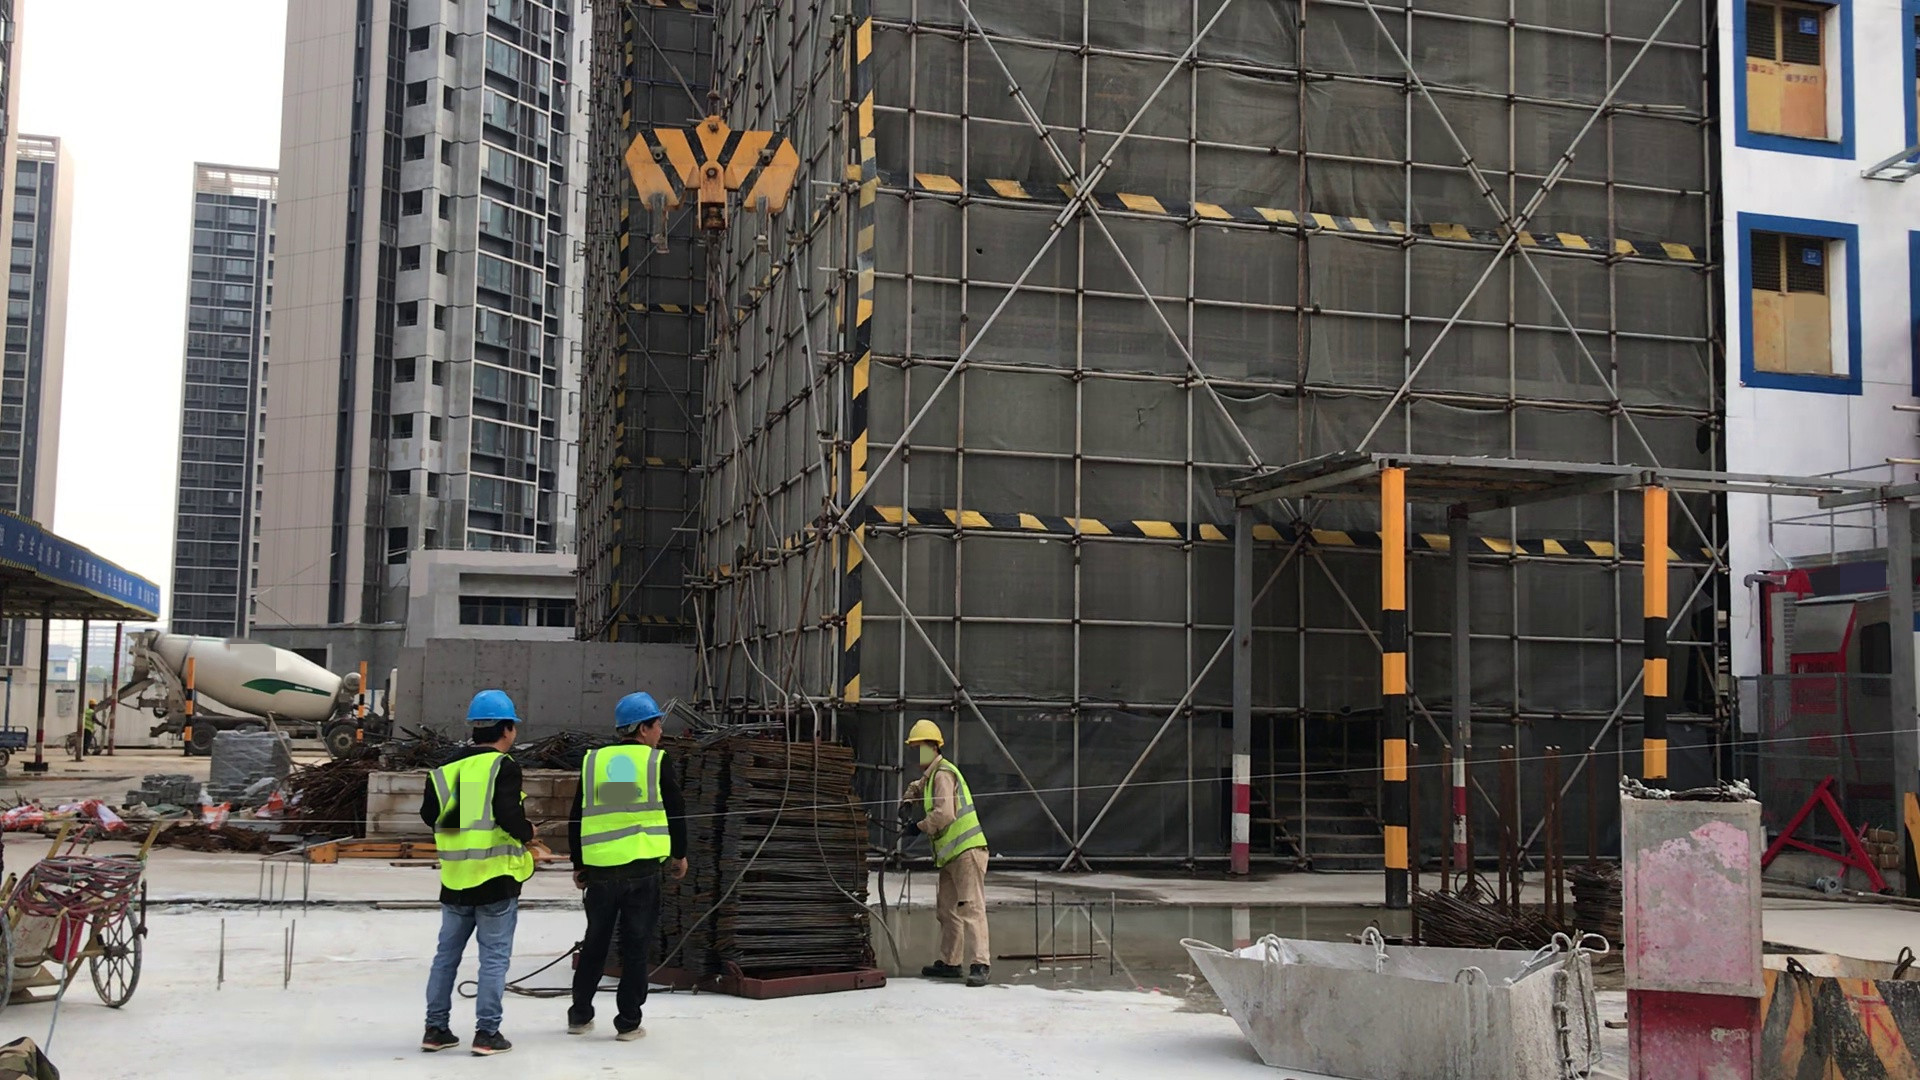handcart: (6, 812, 156, 1015)
helmet: (611, 695, 667, 728), (462, 693, 523, 723), (905, 723, 947, 747), (85, 697, 98, 708)
hook: (619, 101, 799, 282)
hopper: (1182, 923, 1610, 1080), (1759, 950, 1920, 1078)
person: (562, 691, 689, 1045), (415, 686, 526, 1064), (896, 719, 1001, 994), (84, 697, 106, 757)
slogan: (1, 516, 160, 621)
vest: (429, 751, 538, 896), (581, 745, 671, 869), (919, 765, 994, 863), (86, 709, 97, 734)
